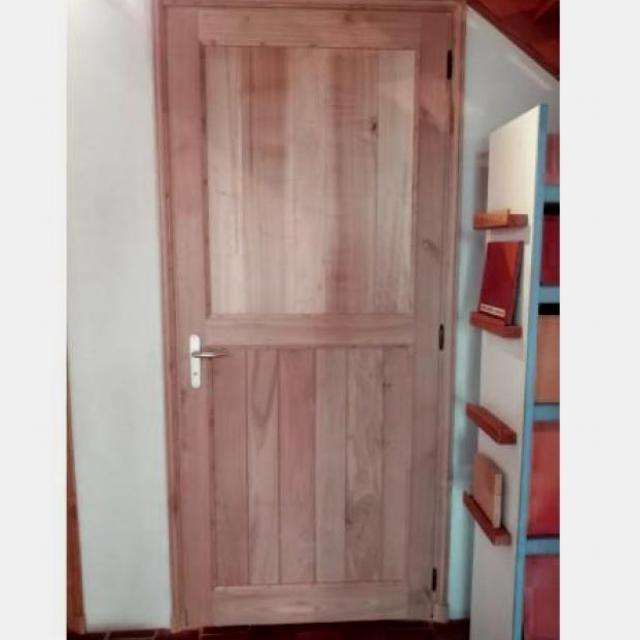door: (151, 0, 462, 631)
